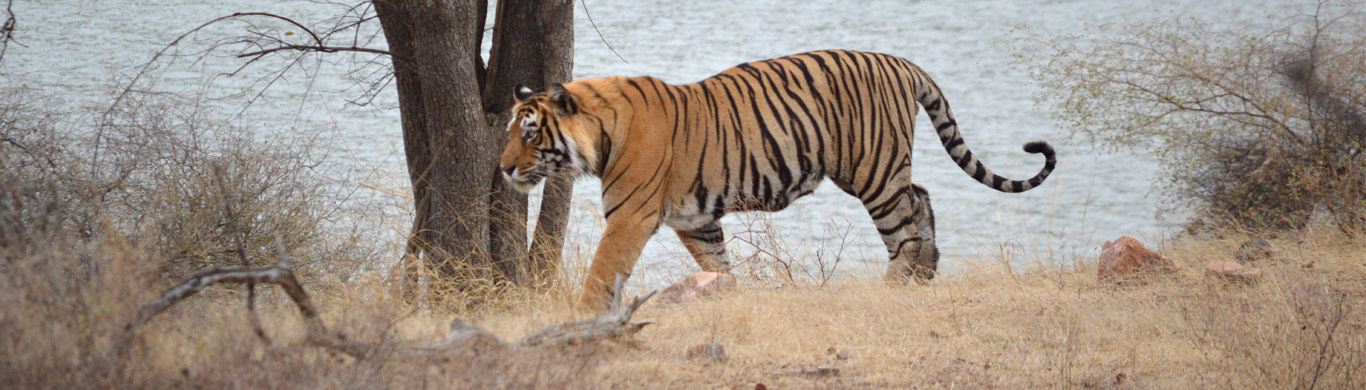Tiger: (477, 29, 1059, 333)
